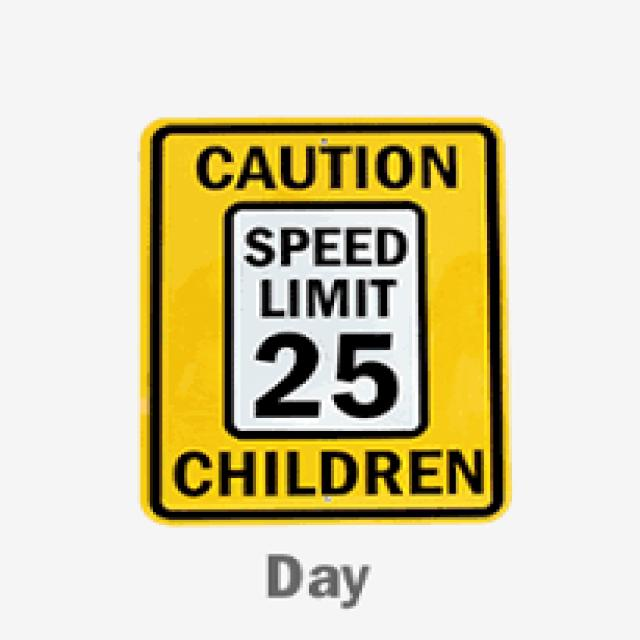speedLimit25: (225, 208, 418, 435)
